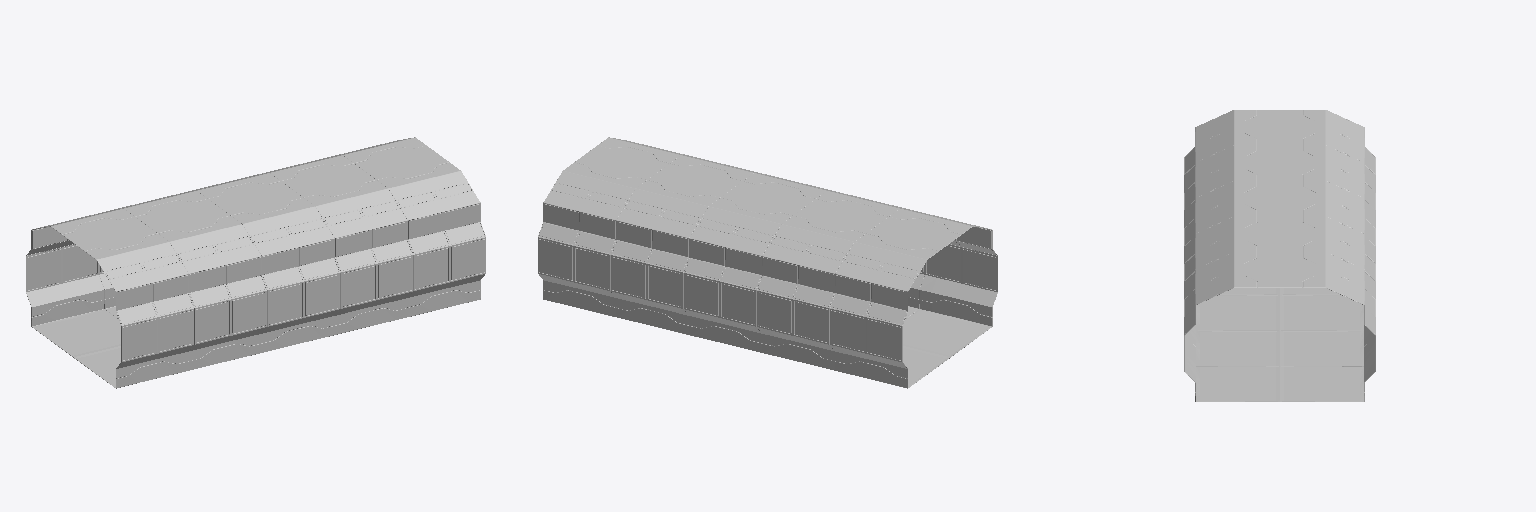
File: StraightPanel.obj
3 renders of one model, left to right at view 1: azimuth 30°, elevation 25°; view 2: azimuth 150°, elevation 25°; view 3: azimuth 270°, elevation 25°, orthographic.
Visible parts, largest first — view 1: HighMesh_Plane.001, BaseMesh_Plane; view 2: HighMesh_Plane.001, BaseMesh_Plane; view 3: HighMesh_Plane.001, BaseMesh_Plane.
Boxes of the visible parts, x1=… form: HighMesh_Plane.001: x1=26, y1=137, x2=485, y2=388; BaseMesh_Plane: x1=27, y1=146, x2=483, y2=381; HighMesh_Plane.001: x1=538, y1=137, x2=997, y2=388; BaseMesh_Plane: x1=540, y1=146, x2=996, y2=380; HighMesh_Plane.001: x1=1184, y1=110, x2=1375, y2=401; BaseMesh_Plane: x1=1210, y1=110, x2=1349, y2=297.
Bounding box in the file's own units: 10 × 3.01 × 4.56.